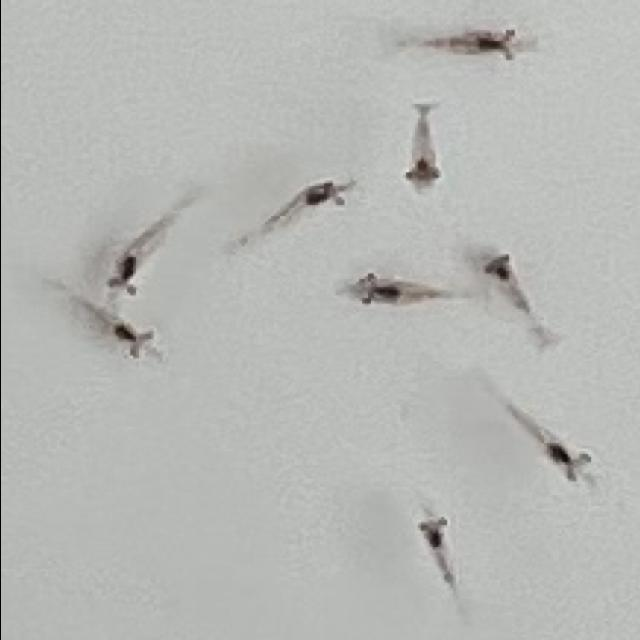shrimp-seed: (542, 440, 596, 488), (349, 269, 403, 315), (107, 322, 159, 363), (301, 174, 349, 217), (102, 255, 150, 298), (402, 154, 448, 198), (408, 510, 454, 552), (472, 27, 518, 66), (472, 248, 518, 287)
